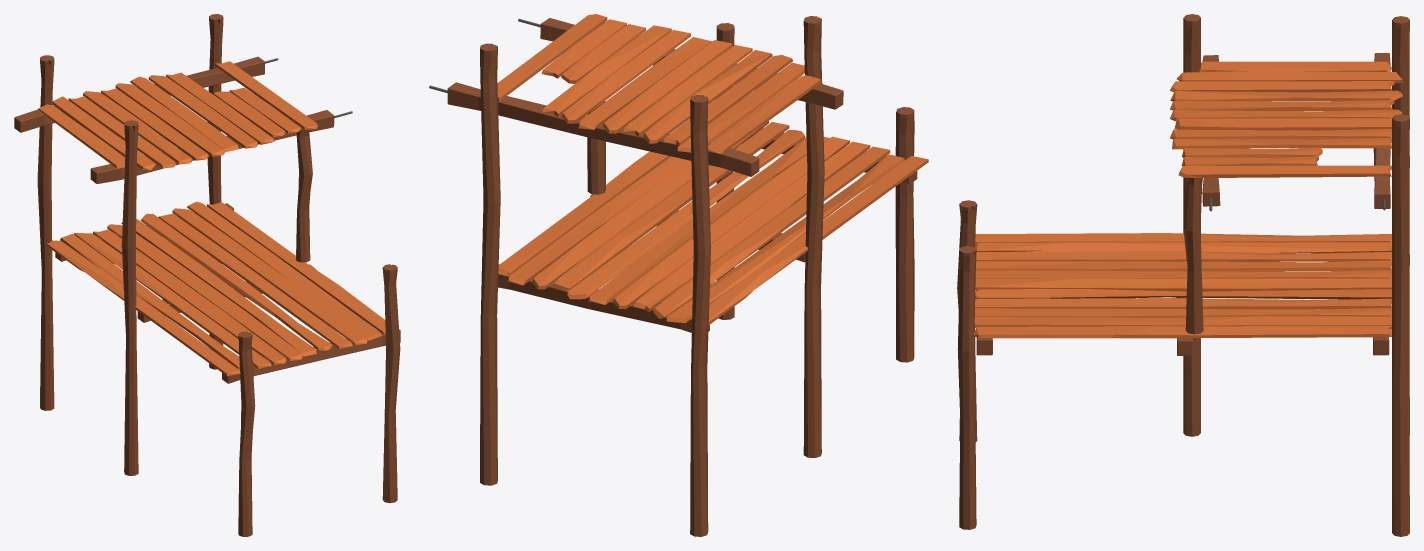
File: Wooden Platform 2.fbx
The picture shows the model from 3 angles, left to right: view 1: azimuth 30°, elevation 25°; view 2: azimuth 150°, elevation 25°; view 3: azimuth 270°, elevation 25°; orthographic projection. The views are drawn at different scales.
Visible parts, largest first — view 1: Wooden Platform 2; view 2: Wooden Platform 2; view 3: Wooden Platform 2.
Part boxes in pixels (bbox=[...]): Wooden Platform 2: bbox=[14, 14, 400, 536]; Wooden Platform 2: bbox=[429, 14, 928, 536]; Wooden Platform 2: bbox=[957, 14, 1409, 536].
Bounding box in the file's own units: 579 × 735 × 726.
